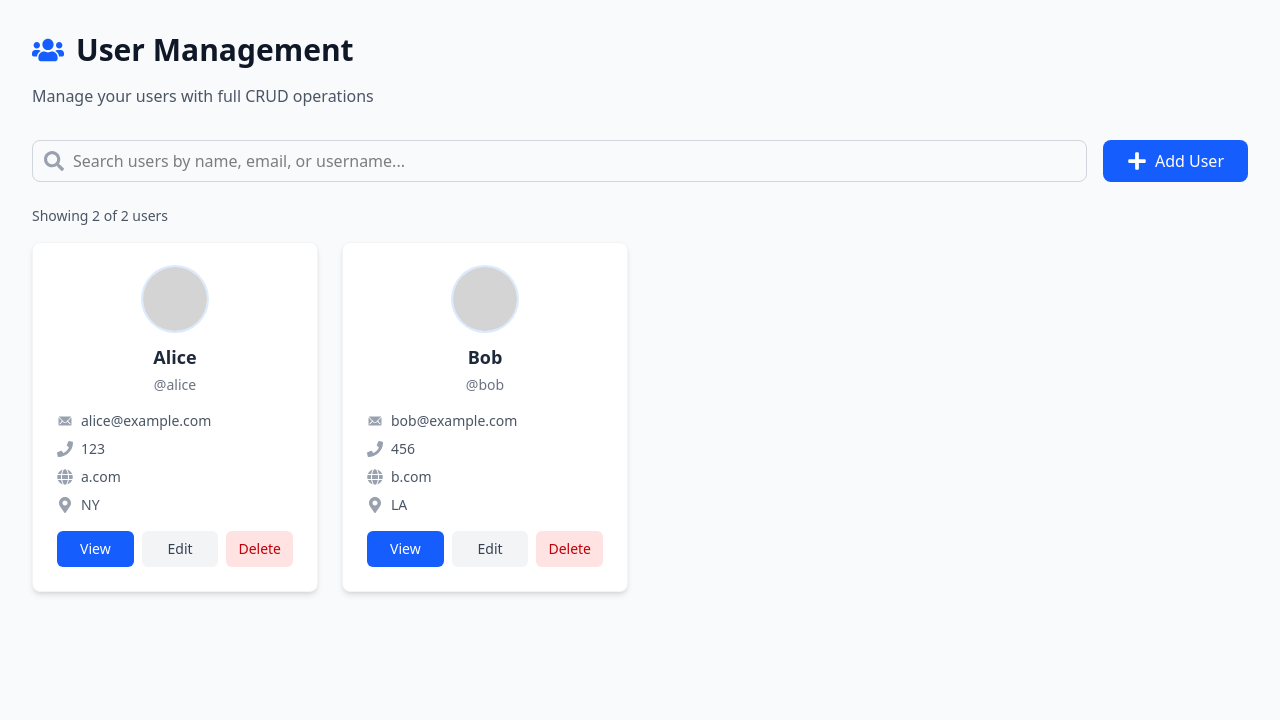
Test: UserList › opens add user form when Add User button is clicked
The image size is (1280, 720).
Click the button "Add User" at x=1175, y=161, box [1103, 140, 1248, 182]
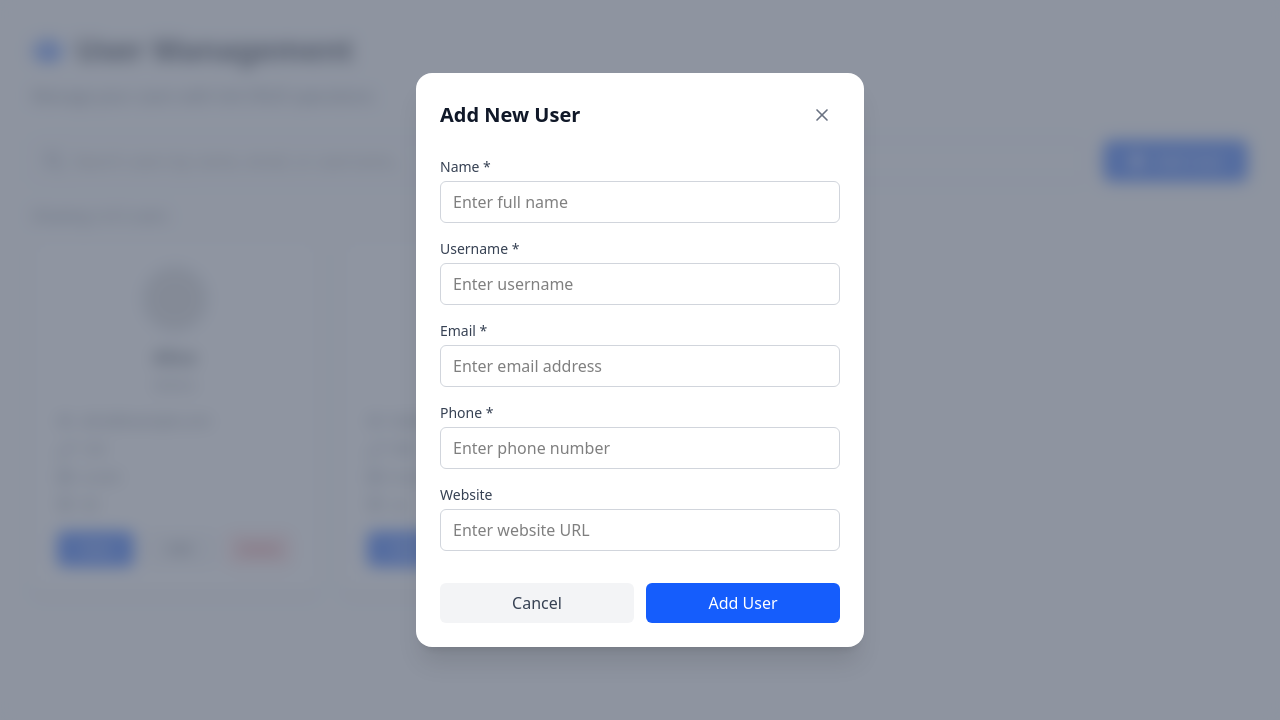
Expected: the heading "Add New User" is shown, [440, 101, 580, 129]
